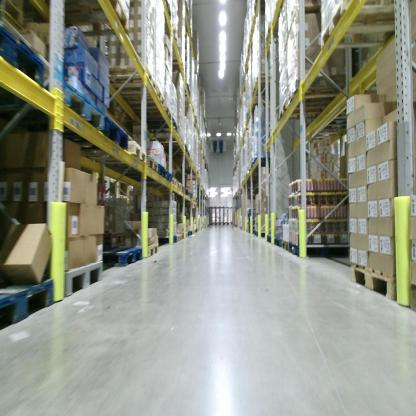pallet: (320, 0, 400, 52), (32, 1, 130, 38), (1, 20, 48, 91), (55, 76, 104, 144), (1, 273, 56, 332), (61, 255, 106, 303), (67, 120, 130, 152), (287, 76, 352, 107), (351, 261, 397, 304), (277, 100, 350, 123), (78, 139, 147, 163), (106, 65, 158, 92), (288, 240, 358, 257), (98, 244, 142, 270), (117, 88, 165, 109), (130, 154, 159, 176), (152, 135, 184, 148), (132, 108, 172, 118), (112, 230, 128, 246), (156, 162, 167, 180), (147, 242, 158, 260), (164, 119, 179, 130), (162, 234, 177, 244), (281, 237, 289, 251), (165, 169, 173, 183), (272, 237, 281, 249), (172, 176, 179, 190), (176, 234, 182, 244), (183, 232, 185, 239)
